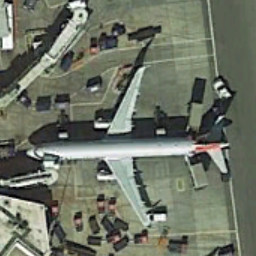Airplane: (23, 59, 247, 234)
